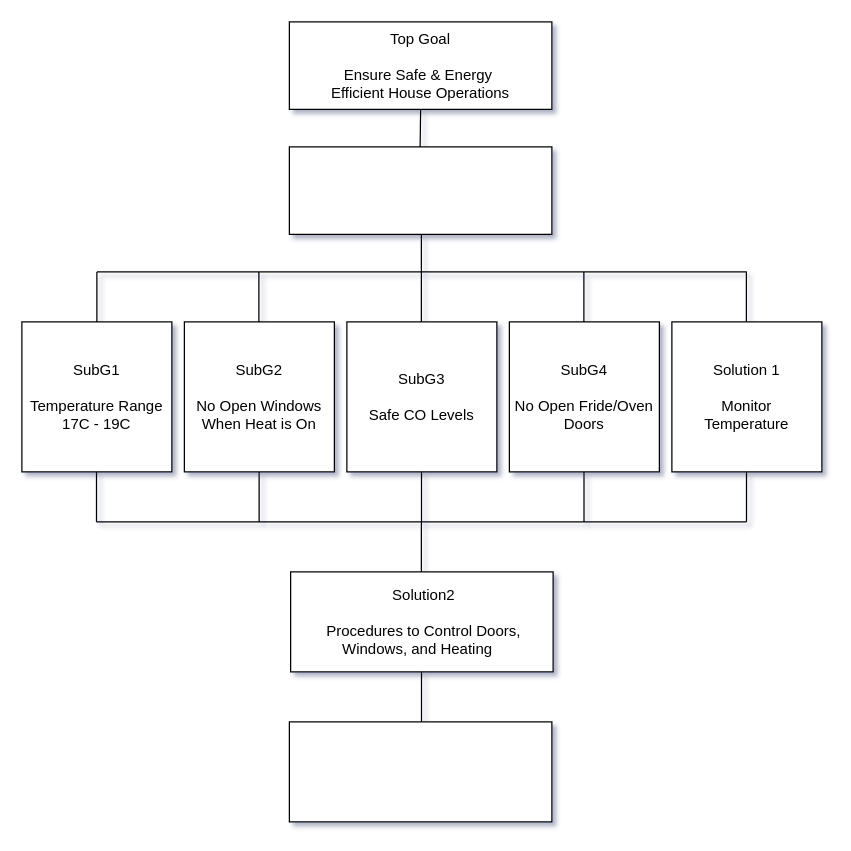
Some shapes in this 851 by 851 pixel diagram are drawn without their labels. The shapes that lost their labels are listed below. From the top down, each one's box as (x1, y1, x2, y2) in pixels, then its label:
(288, 146, 552, 234): Overall Strategy Develop House Control System
(288, 721, 552, 822): Solution3 Monitor CO Level
